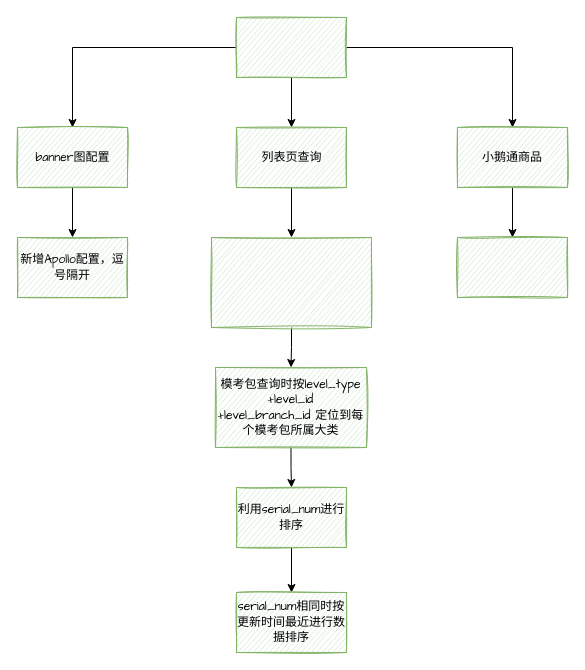
This 585x670 diagram has some shape labels left out. The box of each missing label's shape, as (x1, y1, x2, y2) in pixels:
Apollo配置定义大类顺序，程序中设立默认值，本次先不在Apollo中设置，后续有更改，再在Apollo中配置: (210, 236, 372, 328)
备考列表页: (236, 16, 346, 78)
点击跳转链接配置到Apollo: (456, 236, 568, 298)
